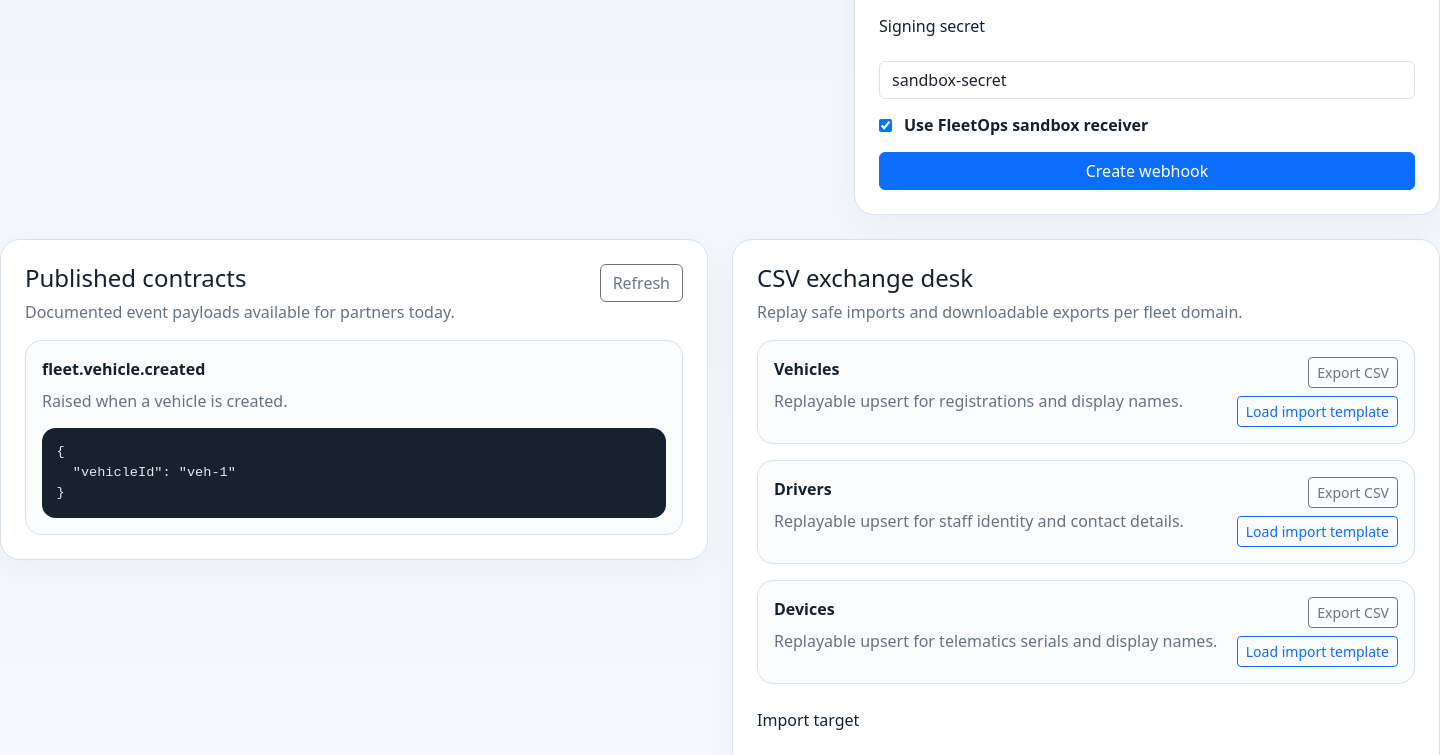
Test: IntegrationsAdminView › exports and imports CSV through the admin exchange desk
(page scrolled)
Click the button "Export CSV" in the row of "Vehicles" at (1353, 373), box left=1308, top=357, right=1398, bottom=388
(page scrolled)
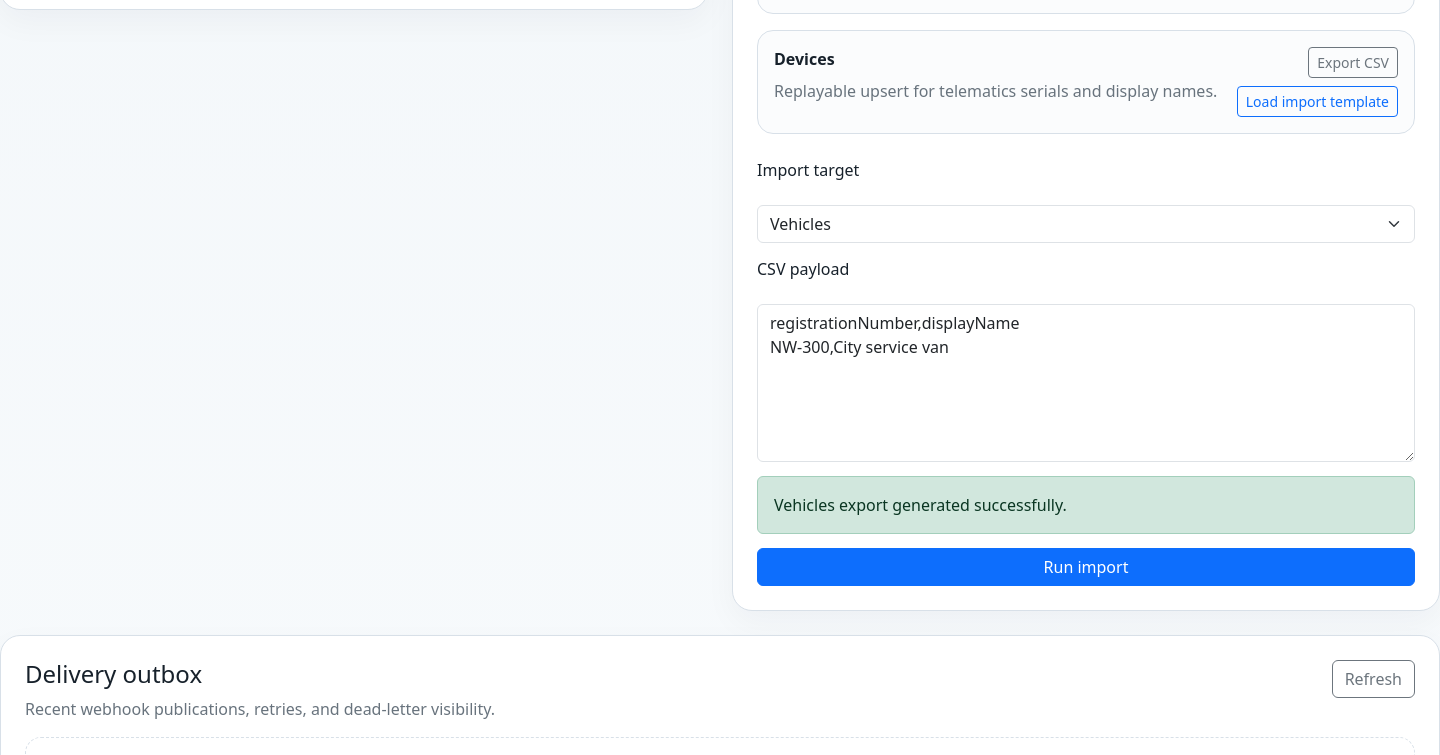
Expected: the button "Run import" is shown, left=757, top=548, right=1415, bottom=586
Now the text "Vehicles export generated successfully." is shown, box left=757, top=476, right=1415, bottom=534
Submit the form with test id "csv-import-form", box left=757, top=158, right=1415, bottom=586
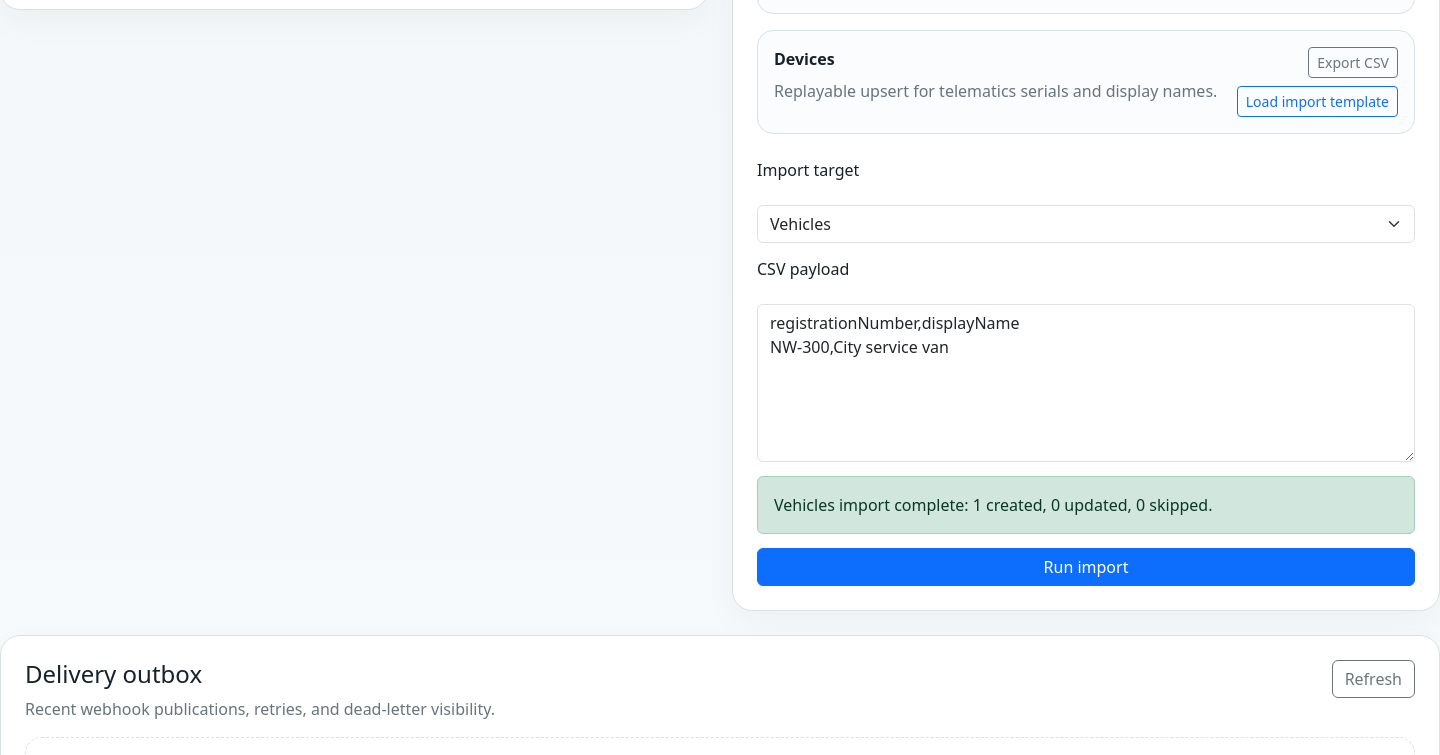
Now the text "Vehicles import complete: 1 created, 0 updated, 0 skipped." is shown, box left=757, top=476, right=1415, bottom=534
